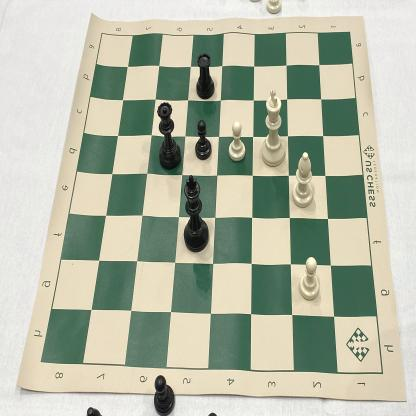black-king: (182, 171, 210, 255)
black-pawn: (193, 120, 213, 162)
black-queen: (158, 97, 182, 171)
white-bishop: (291, 150, 317, 210)
white-king: (260, 87, 288, 169)
white-knight: (195, 50, 217, 102)
white-pawn: (298, 255, 322, 304), (228, 119, 247, 163)
